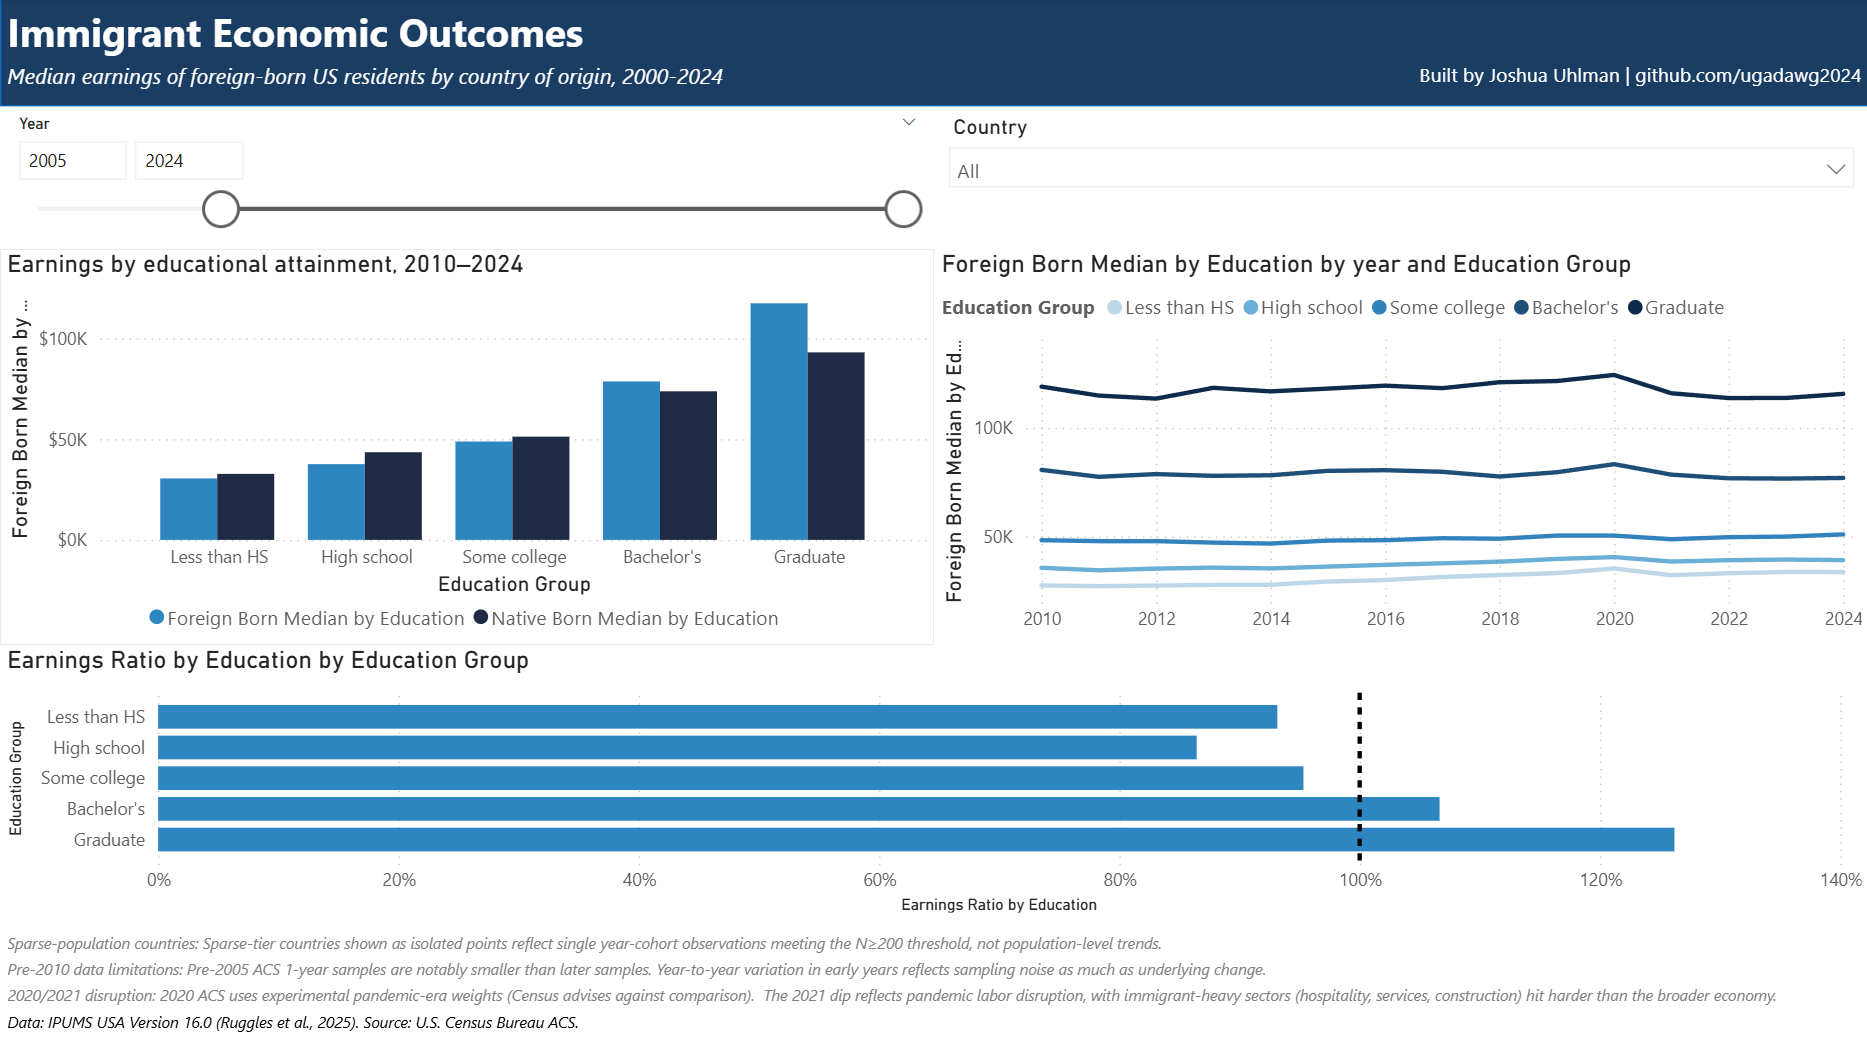

This screenshot's page, from the dashboard's own definition file:
{"tool":"powerbi","page":{"name":"Education","canvas":[1280,720],"ordinal":3},"visuals":[{"type":"shape","box":[0,0,1280.4,75],"z":0},{"type":"textbox","box":[0,0,505.6,47.3],"z":1000},{"type":"textbox","box":[0,38,571.4,37],"z":2000},{"type":"textbox","box":[914.6,38,365.8,37],"z":3000},{"type":"textbox","box":[0,632,1280.4,88.4],"z":4000},{"type":"slicer","title":"Country","fields":{"Values":["Countries.country_name"]},"box":[639.8,75,640.2,97.6],"z":5000},{"type":"slicer","fields":{"Values":["Date.Year"]},"box":[0,75,640.2,97.6],"z":6000},{"type":"clusteredColumnChart","fields":{"Category":["Education.education_group"],"Y":["Medians.Foreign Born Median by Education","Medians.Native Born Median by Education"]},"box":[0,172.6,640.2,271.3],"z":8000},{"type":"lineChart","fields":{"Category":["Medians.year"],"Series":["Education.education_group"],"Y":["Medians.Foreign Born Median by Education"]},"box":[640.2,172.6,640.2,271.3],"z":8001},{"type":"clusteredBarChart","fields":{"Category":["Education.Education Group"],"Y":["Medians.Earnings Ratio by Education"]},"box":[0,443.9,1280.4,188.1],"z":8002}]}

Visuals, with their boxes in screenshot pixels (x1, y1, x2, y2), scaled from the page's 1280x720 canvas onto the 1867x1042 screenshot:
shape: box=[0, 0, 1866, 109]
textbox: box=[0, 0, 737, 68]
textbox: box=[0, 55, 833, 109]
textbox: box=[1334, 55, 1866, 109]
textbox: box=[0, 915, 1866, 1041]
"Country" slicer: box=[933, 109, 1866, 250]
slicer - Date.Year: box=[0, 109, 934, 250]
clusteredColumnChart - Education.education_group x Medians.Foreign Born Median by Education: box=[0, 250, 934, 642]
lineChart - Medians.year x Education.education_group: box=[934, 250, 1866, 642]
clusteredBarChart - Education.Education Group x Medians.Earnings Ratio by Education: box=[0, 642, 1866, 915]
